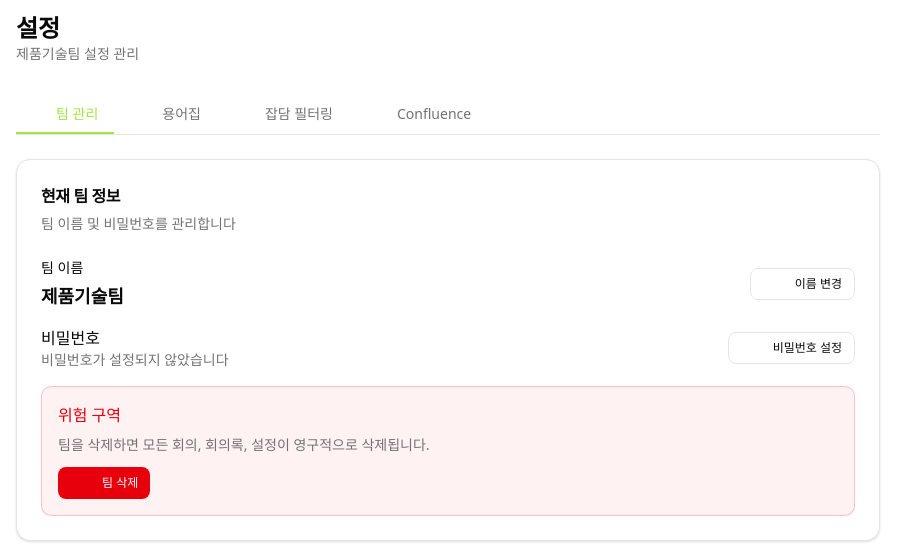
Scenario: SettingsPage › Rendering › renders vocabulary list when vocabulary tab is active
Click the button "용어집": click(170, 115) 122,96 -> 217,134
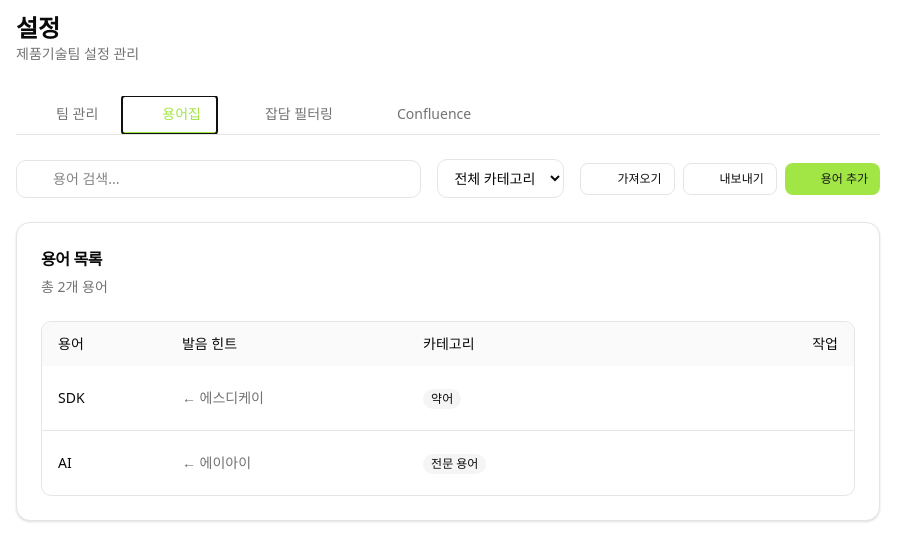
Expected: the text "SDK" is shown, 42,366 -> 166,430
Expected: the text "← 에스디케이" is shown, 182,388 -> 264,407
Expected: the text "AI" is shown, 42,430 -> 166,495
